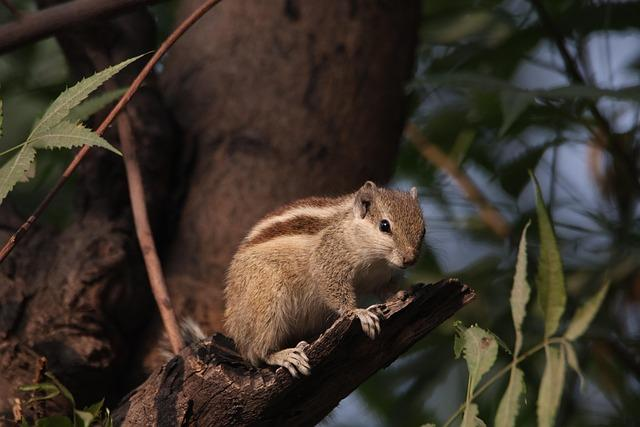Non_Gorille: (117, 90, 506, 396)
